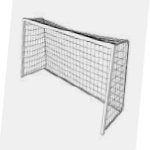goals: (19, 14, 130, 138)
